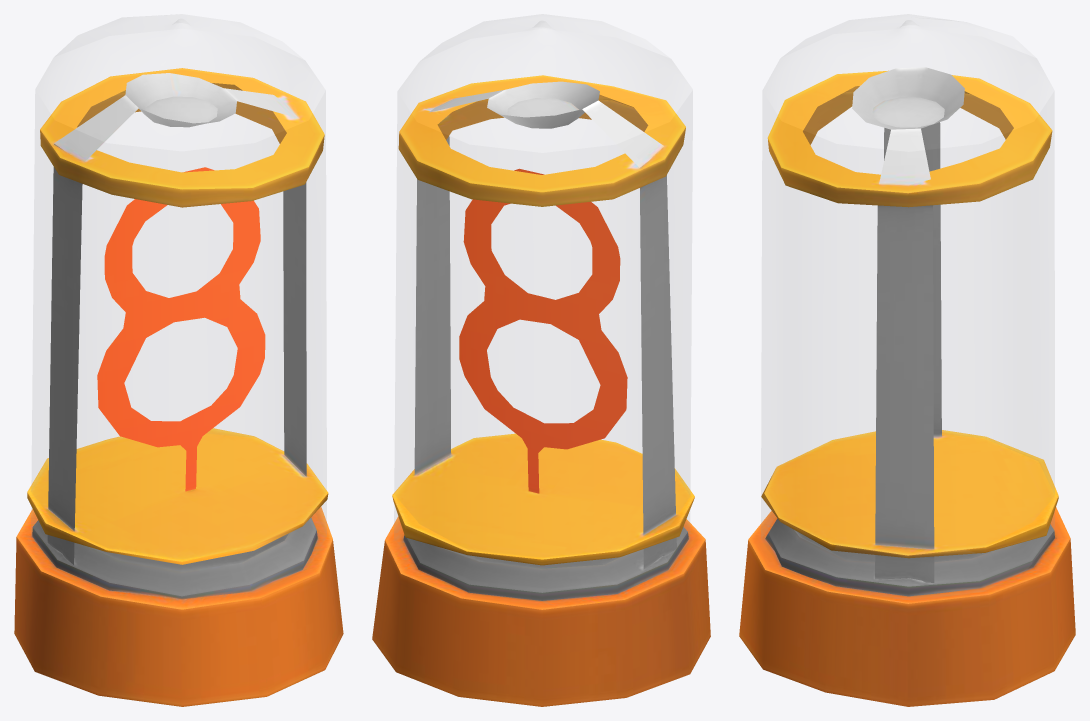
Rendered from obj_num08_base.gltf.
3 views of the same model, side by side, from view 1: azimuth 30°, elevation 25°; view 2: azimuth 150°, elevation 25°; view 3: azimuth 270°, elevation 25° (orthographic).
Visible parts, largest first — view 1: obj_num08_base, obj_num08_glass; view 2: obj_num08_base, obj_num08_glass; view 3: obj_num08_base, obj_num08_glass.
Boxes of the visible parts, left/top/right/bottom form: obj_num08_base: left=14, top=68, right=343, bottom=706; obj_num08_glass: left=31, top=14, right=326, bottom=535; obj_num08_base: left=372, top=75, right=710, bottom=706; obj_num08_glass: left=394, top=14, right=692, bottom=537; obj_num08_base: left=739, top=67, right=1075, bottom=706; obj_num08_glass: left=761, top=14, right=1054, bottom=538.
Size of what is drawn, in the model's own units: 0.3542 by 0.7175 by 0.355.
Materials: 2 (1 with a texture image).
